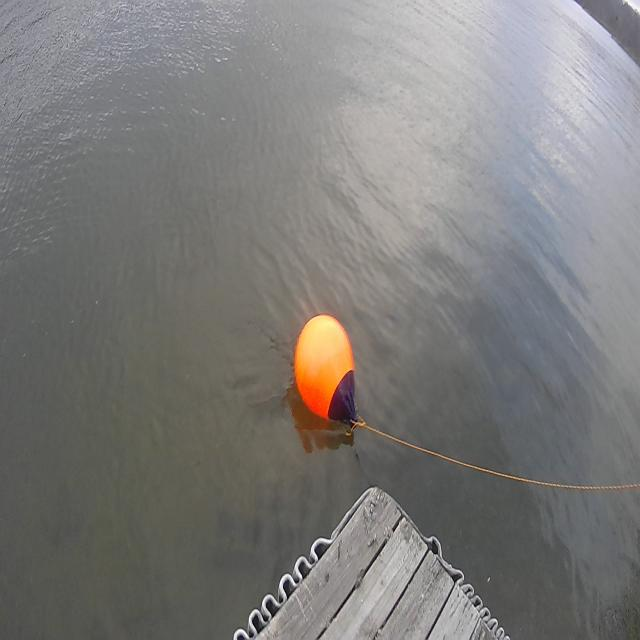Buoy: (291, 306, 368, 444)
